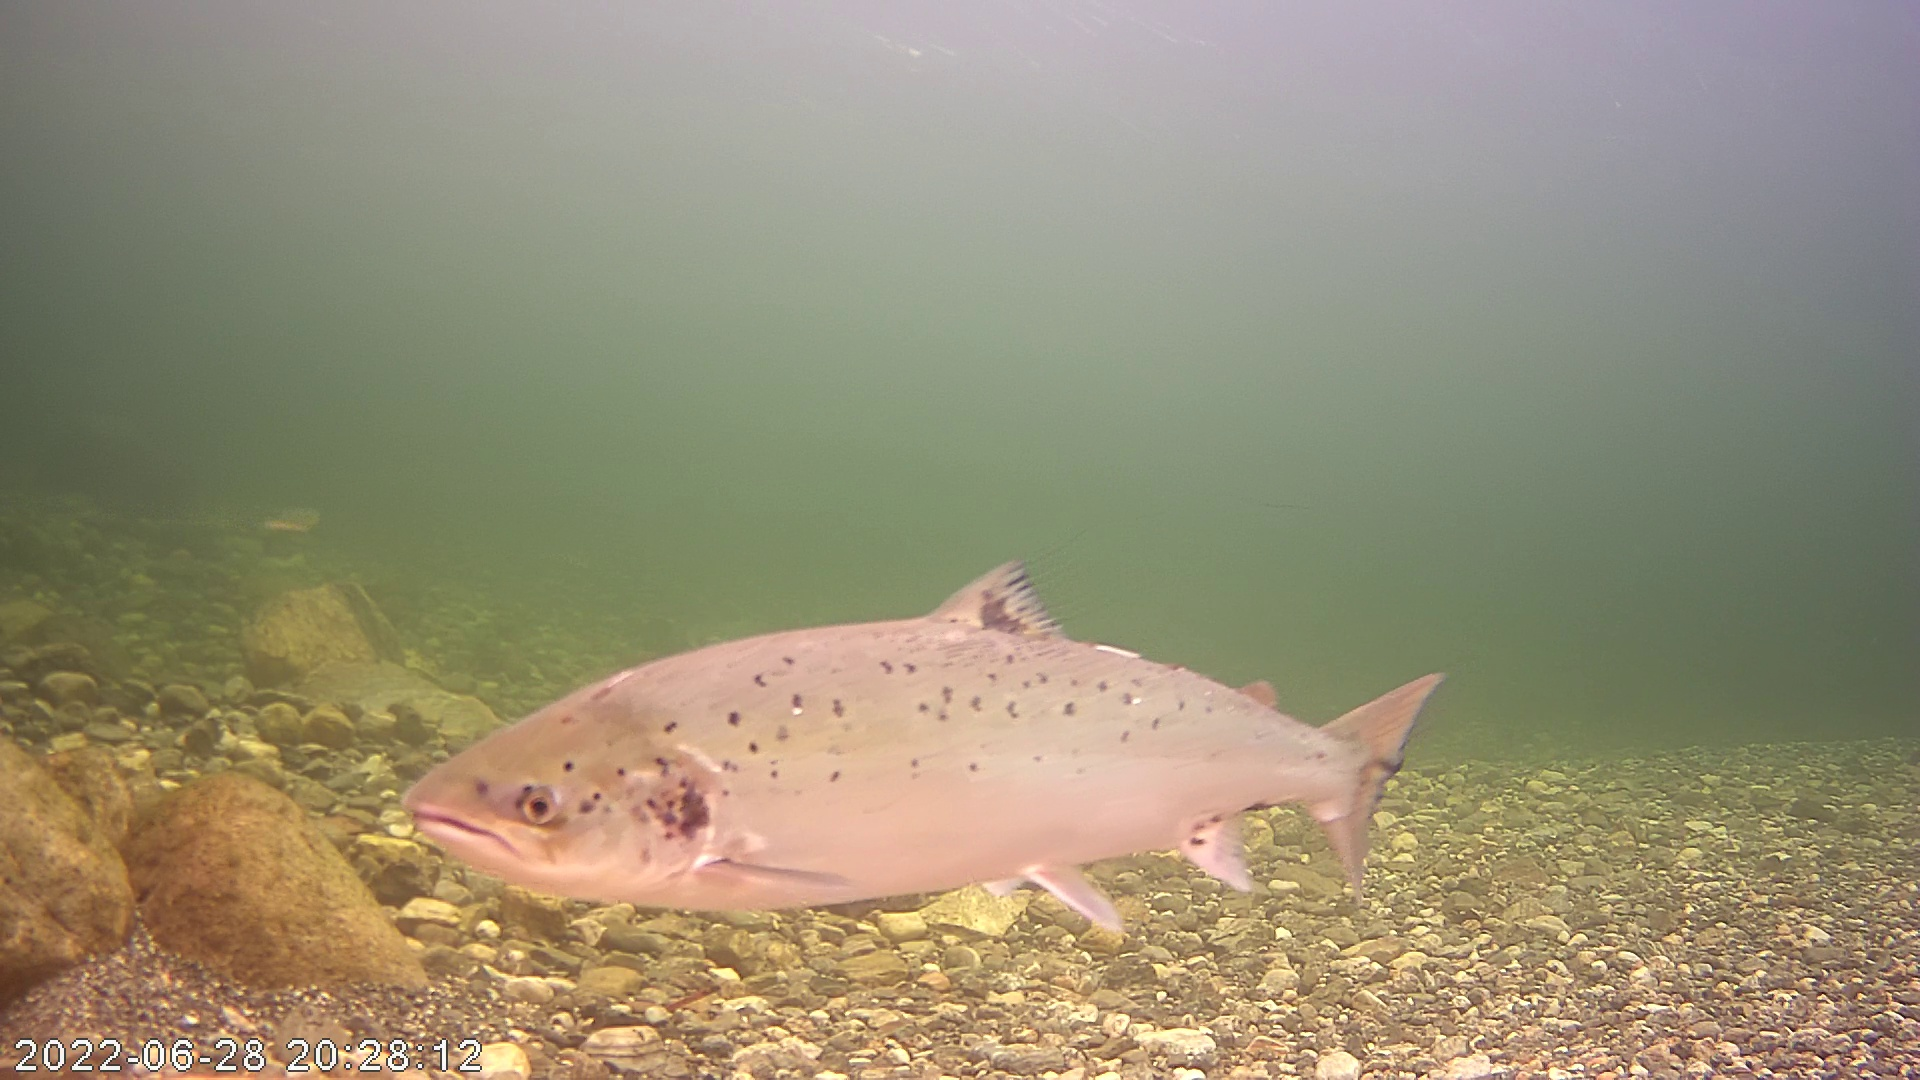salmon: (392, 542, 1443, 934)
